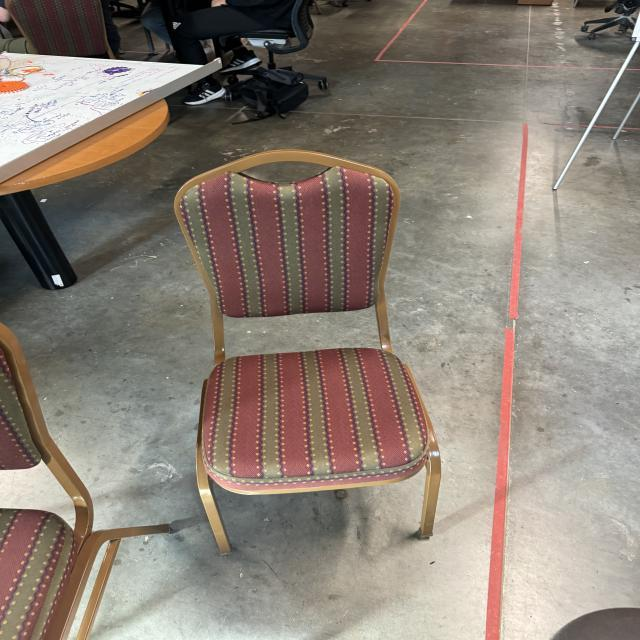chair: (163, 148, 444, 560)
